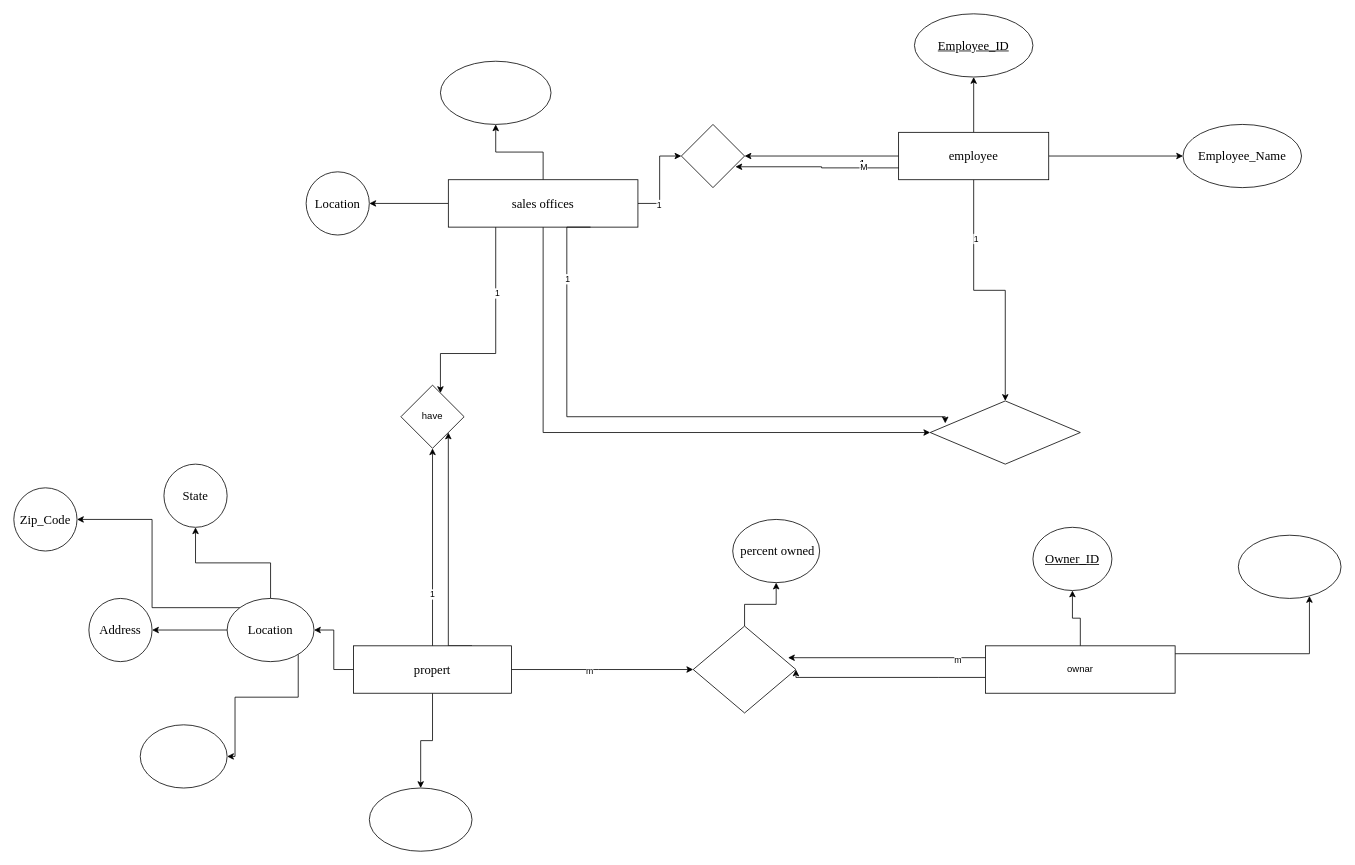
The diagram is 1355 pixels wide and 865 high, and some of its shapes have lost their labels. The centre of each missing label's shape, as x and y in pixels:
assigned: [713,156]
city: [183,756]
manager: [1004,432]
Office_Number: [495,92]
owan: [744,669]
Owner_Name: [1289,566]
Property_ID: [420,819]
